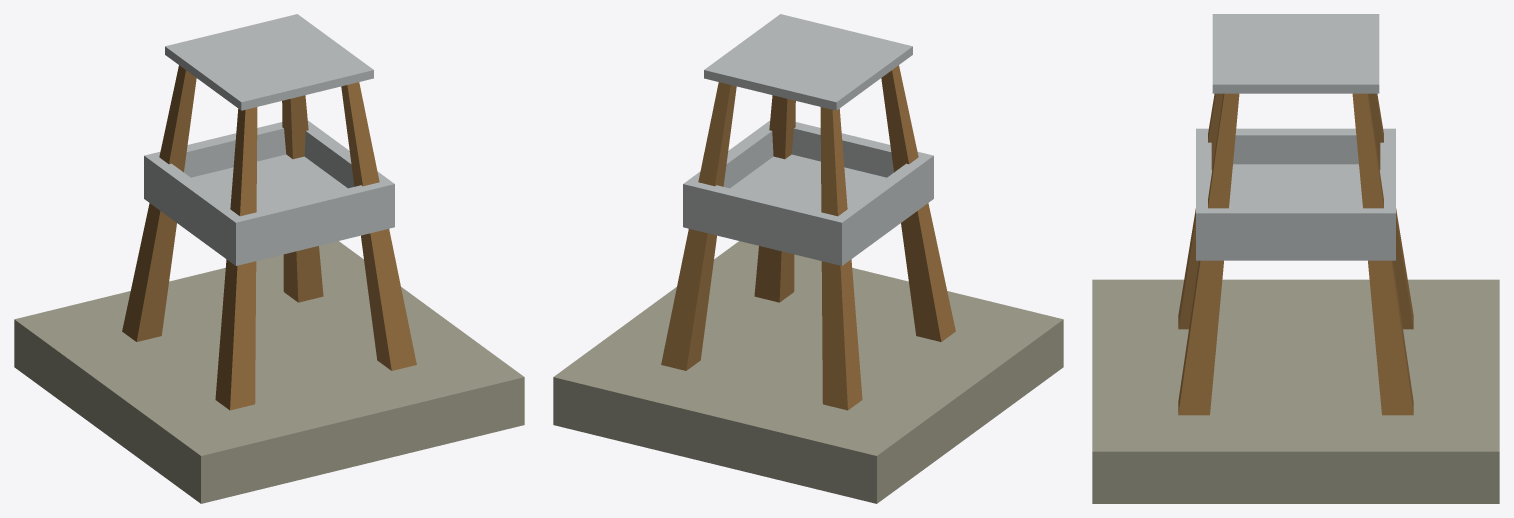
Rendered from watch tower.fbx.
3 views of the same model, side by side, from view 1: azimuth 30°, elevation 25°; view 2: azimuth 150°, elevation 25°; view 3: azimuth 270°, elevation 25° (orthographic). The views are drawn at different scales.
Parts seen in each view (by area): view 1: watch tower; view 2: watch tower; view 3: watch tower.
Boxes of the visible parts, box(x1,y1,x2,y2) form: watch tower: box(14, 14, 524, 503); watch tower: box(553, 14, 1063, 503); watch tower: box(1092, 14, 1499, 503).
Size of the model in its own units: 7.46 by 7.44 by 7.46.
